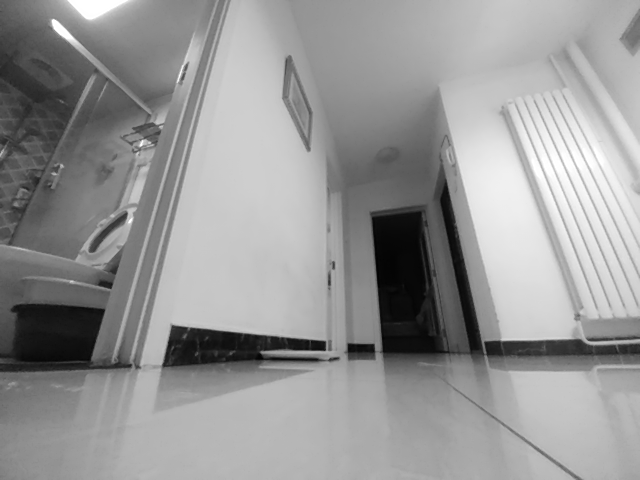scale: (258, 348, 343, 360)
